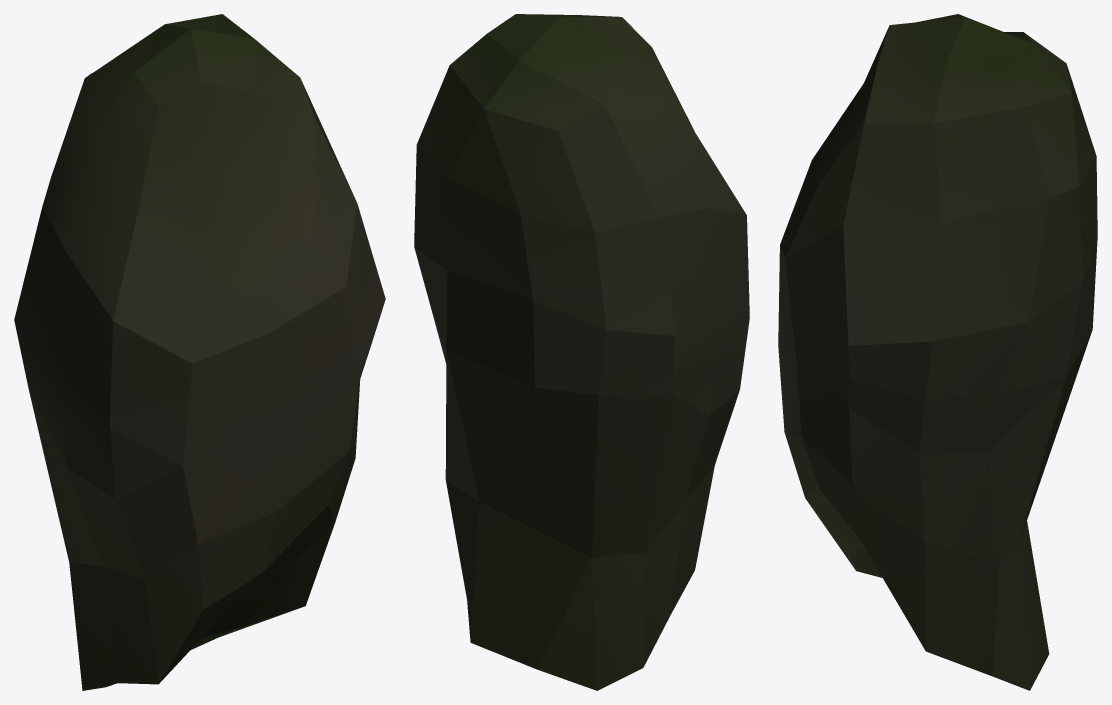
The model's file is MRock_1_v2.fbx.
3 views of the same model, side by side, from view 1: azimuth 30°, elevation 25°; view 2: azimuth 150°, elevation 25°; view 3: azimuth 270°, elevation 25° (orthographic). The views are drawn at different scales.
Visible parts, largest first — view 1: pCube36; view 2: pCube36; view 3: pCube36.
Part boxes in pixels (x1,y1,x2,y2): pCube36: (14, 14, 385, 690); pCube36: (414, 14, 749, 690); pCube36: (778, 14, 1097, 690).
Bounding box in the file's own units: 143 × 311 × 136.
